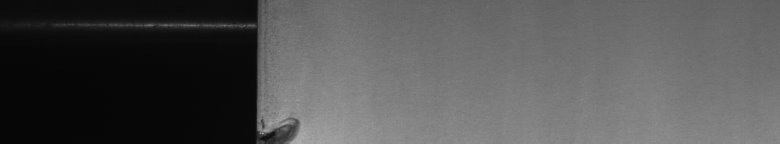hb: (268, 108, 305, 136)
